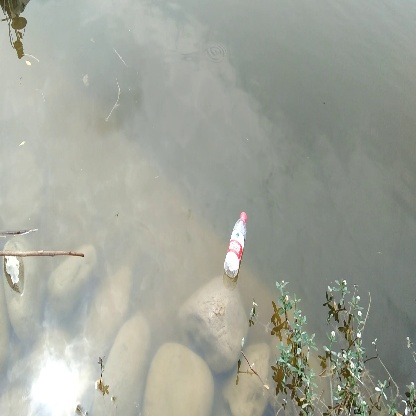bottle: (221, 209, 254, 282)
